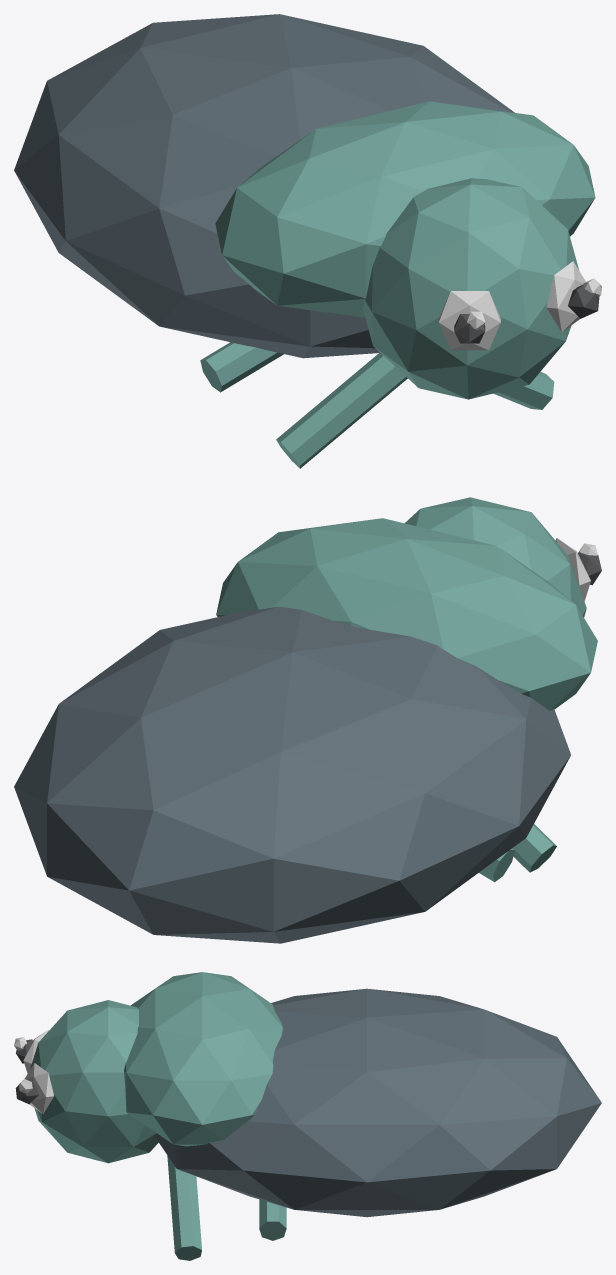
The model's file is charagochilus-longicornis.glb.
The picture shows the model from 3 angles, top to bottom: view 1: azimuth 30°, elevation 25°; view 2: azimuth 150°, elevation 25°; view 3: azimuth 270°, elevation 25°; orthographic projection. The views are drawn at different scales.
Visible parts, largest first — view 1: body, pronotum, head, leg0-l, f-eye-r, leg1-l, f-eye-l, leg0-r, f-pupil-l, f-pupil-r; view 2: body, pronotum, head, leg0-l, f-eye-r; view 3: body, pronotum, head, leg0-r, leg1-r, f-eye-l.
Boxes of the visible parts, x1,y1,x2,y2 form: body: (14,14,514,358); pronotum: (215,101,595,317); head: (363,178,579,399); leg0-l: (276,352,407,468); f-eye-r: (439,291,500,350); leg1-l: (200,342,283,392); f-eye-l: (546,261,585,332); leg0-r: (493,372,554,409); f-pupil-l: (568,284,599,318); f-pupil-r: (454,314,485,343); body: (14,606,570,943); pronotum: (216,518,597,710); head: (405,497,586,617); leg0-l: (512,824,556,872); f-eye-r: (555,538,590,601); body: (155,988,601,1217); pronotum: (124,972,283,1146); head: (30,1000,158,1163); leg0-r: (167,1155,201,1260); leg1-r: (259,1199,286,1240); f-eye-l: (24,1063,53,1113).
Size of the model in its own units: 0.32 by 0.2096 by 0.5004.
